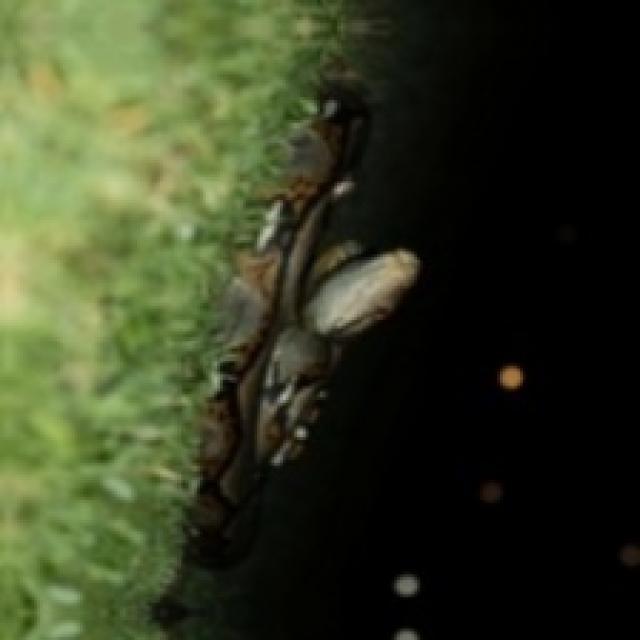reticulated python: (189, 74, 420, 563)
